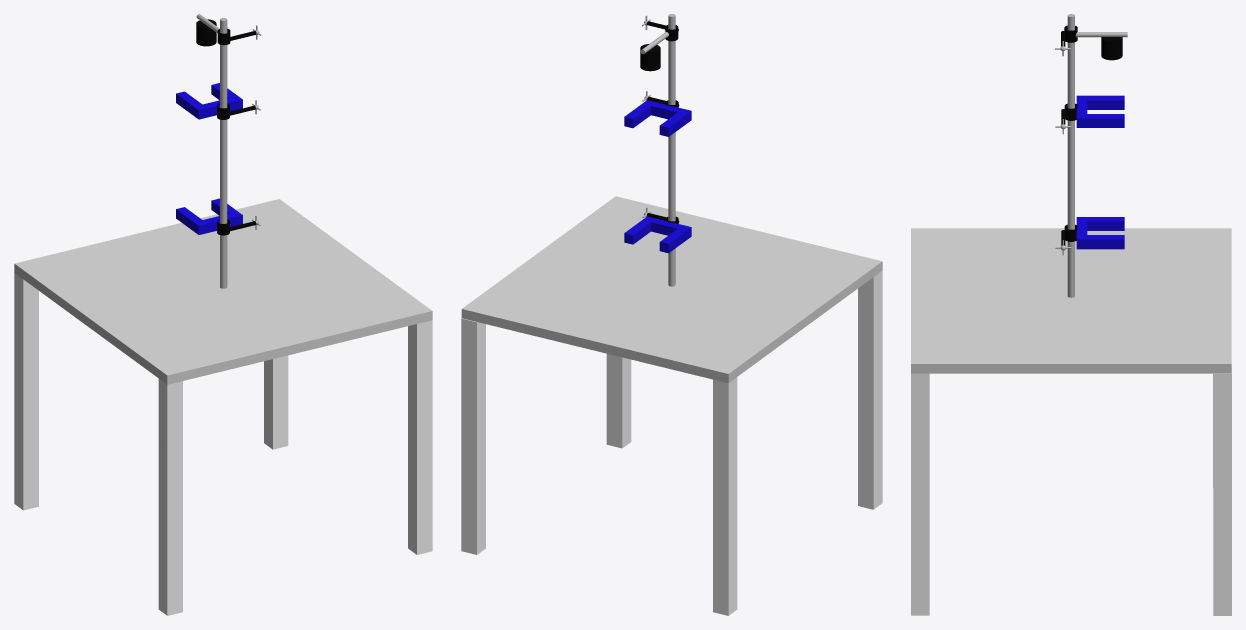
3 views of the same model, side by side, from view 1: azimuth 30°, elevation 25°; view 2: azimuth 150°, elevation 25°; view 3: azimuth 270°, elevation 25° (orthographic). The views are drawn at different scales.
Visible parts, largest first — view 1: Cube, Cube.009, Cube.010, Cube.007, Cube.008, Cylinder; view 2: Cube, Cube.007, Cube.008, Cube.009, Cube.010, Cylinder; view 3: Cube, Cube.008, Cube.010, Cylinder, Cube.002, Cube.005, Cube.003, Cube.004, Cylinder.002.
Boxes of the visible parts, x1,y1,x2,y2 form: Cube: (14,199,432,384); Cube.009: (158,379,182,615); Cube.010: (408,320,432,554); Cube.007: (14,273,38,510); Cube.008: (264,355,288,449); Cylinder: (220,18,227,288); Cube: (461,196,882,383); Cube.007: (713,377,737,615); Cube.008: (461,318,485,554); Cube.009: (858,271,882,509); Cube.010: (606,353,631,448); Cylinder: (668,14,675,286); Cube: (911,228,1231,373); Cube.008: (1213,366,1231,615); Cube.010: (911,373,929,615); Cylinder: (1067,14,1074,297); Cube.002: (1087,95,1124,109); Cube.005: (1087,235,1124,249); Cube.003: (1087,114,1124,127); Cube.004: (1087,217,1124,230); Cylinder.002: (1101,37,1122,60).
Size of the model in its own units: 6 by 11 by 6.01.
